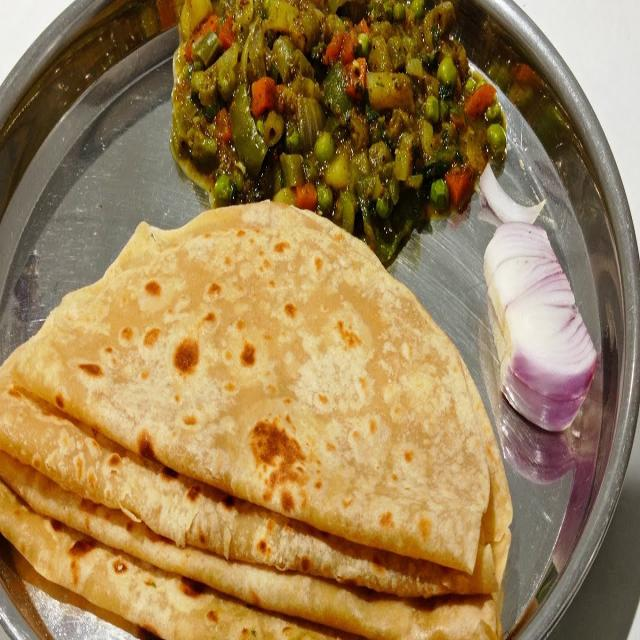chapathi: (0, 195, 511, 640)
